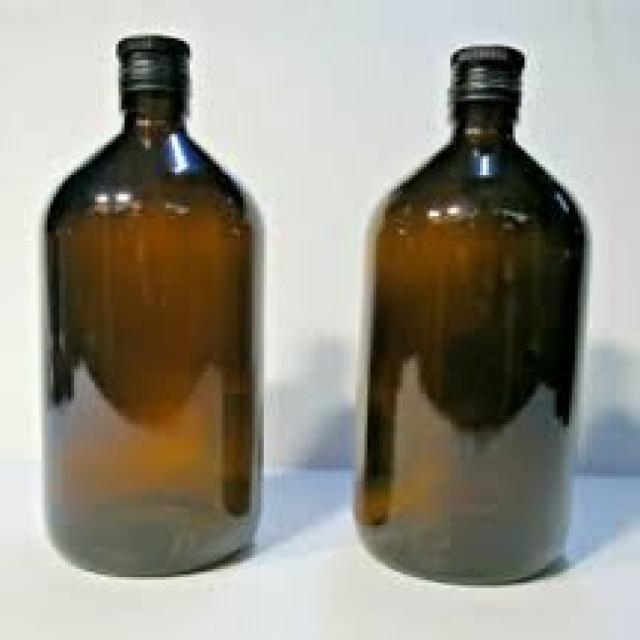glass: (350, 46, 584, 580), (41, 36, 261, 575)
metal: (445, 44, 522, 101), (116, 33, 187, 90)
